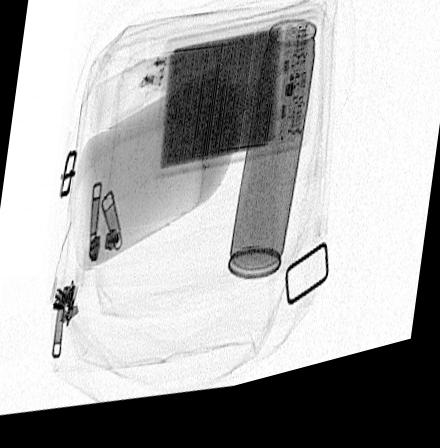Powerbank: (152, 28, 309, 186)
